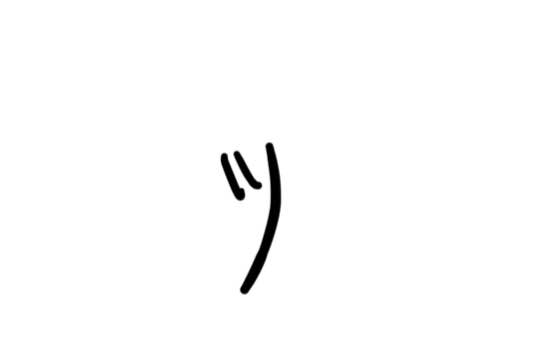tsu: (199, 131, 284, 303)
